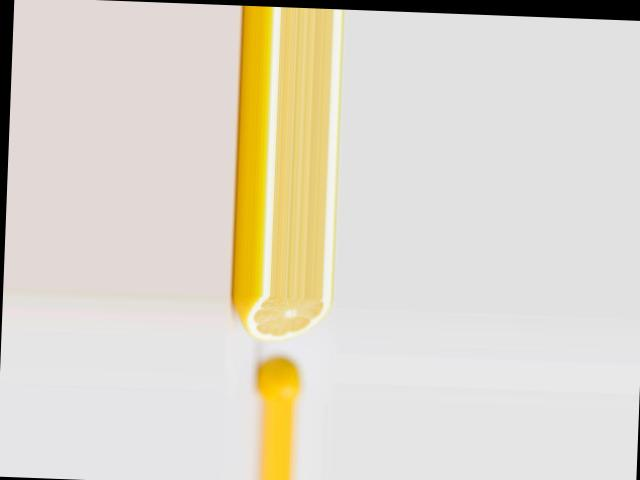lemon: (259, 357, 300, 404)
